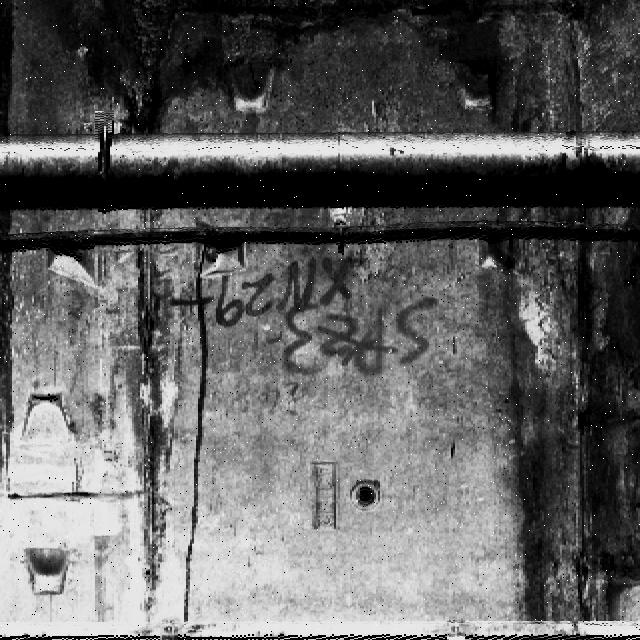leakage: (1, 1, 640, 145), (473, 210, 640, 640), (96, 209, 188, 619), (1, 209, 25, 491)
